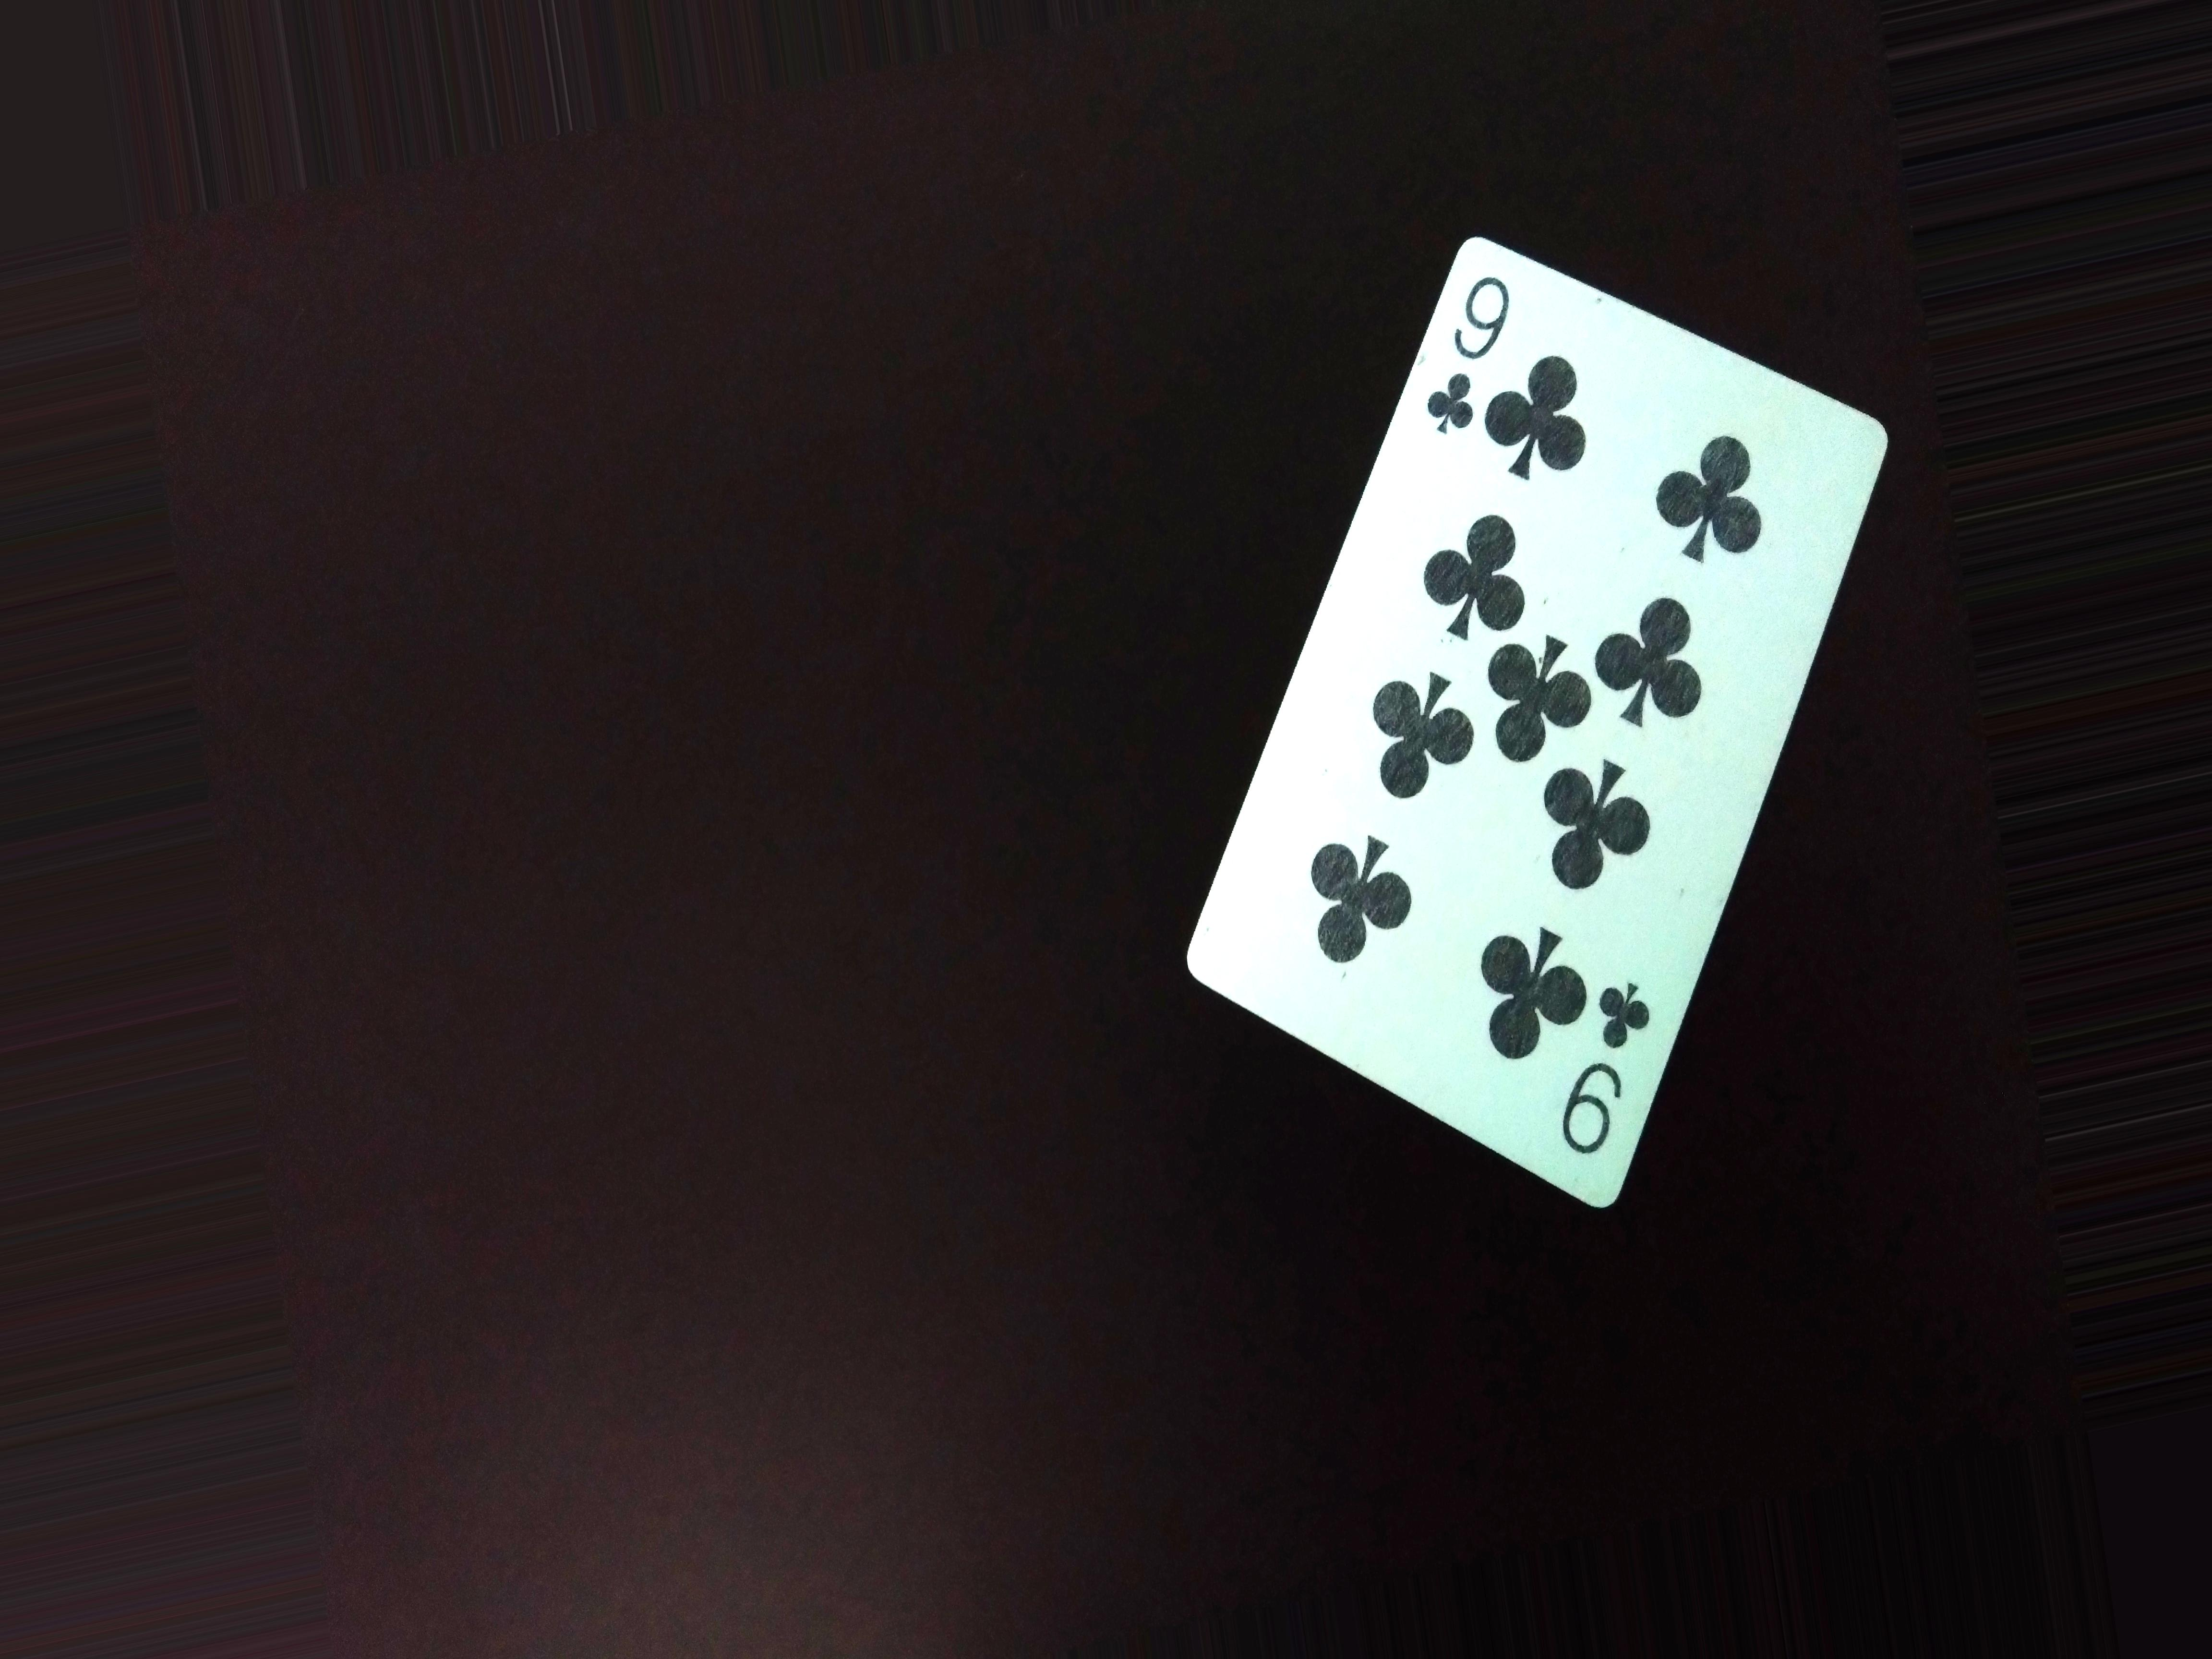9C: (1420, 258, 1529, 464)
